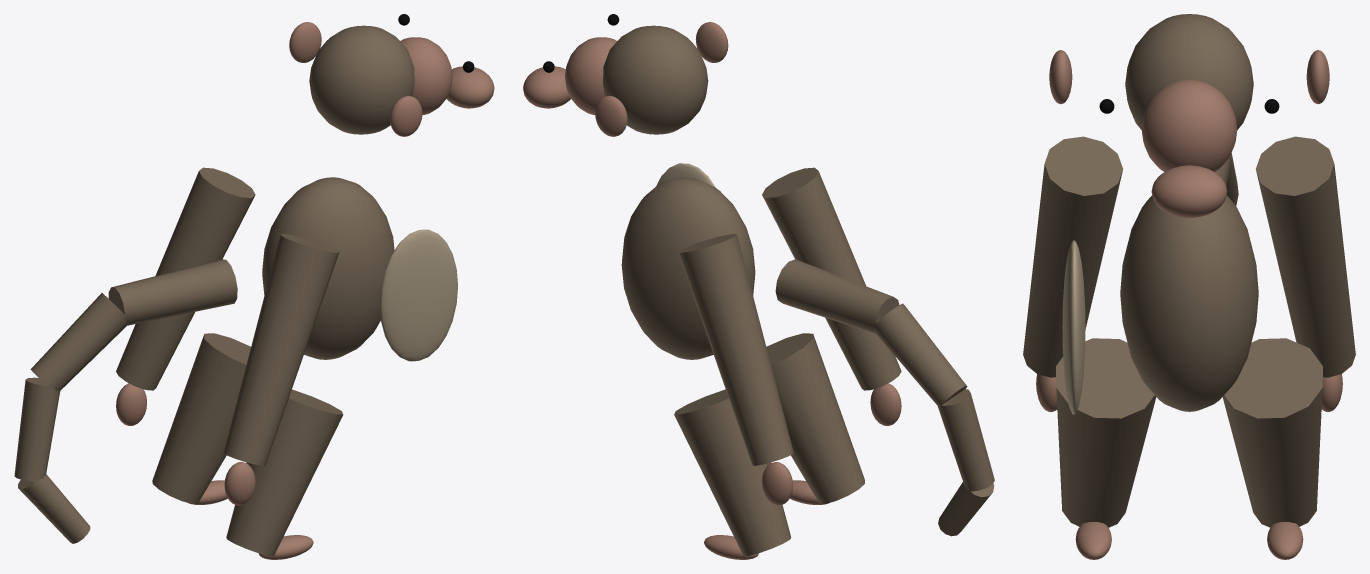
File: macaque-type-monkey.glb
3 views of the same model, side by side, from view 1: azimuth 30°, elevation 25°; view 2: azimuth 150°, elevation 25°; view 3: azimuth 270°, elevation 25° (orthographic). The views are drawn at different scales.
Visible parts, largest first — view 1: furred-torso, arm-1, arm--1, leg--1, head, leg-1, pale-chest, curved-tail-1, curved-tail-2, curved-tail-3, bare-face, curved-tail-4 (+6 smaller); view 2: furred-torso, arm--1, leg-1, arm-1, head, leg--1, curved-tail-1, curved-tail-2, curved-tail-3, bare-face, muzzle, curved-tail-4 (+6 smaller); view 3: furred-torso, arm--1, leg--1, leg-1, arm-1, head, bare-face, pale-chest, muzzle, foot--1, foot-1, ear--1 (+3 smaller).
Part boxes in pixels (left/top/right/bottom): furred-torso: left=262, top=177, right=394, bottom=359; arm-1: left=223, top=234, right=339, bottom=465; arm--1: left=116, top=167, right=255, bottom=390; leg--1: left=152, top=333, right=250, bottom=503; head: left=309, top=25, right=414, bottom=134; leg-1: left=226, top=389, right=343, bottom=556; pale-chest: left=380, top=229, right=457, bottom=361; curved-tail-1: left=108, top=259, right=237, bottom=325; curved-tail-2: left=30, top=293, right=127, bottom=391; curved-tail-3: left=14, top=377, right=60, bottom=481; bare-face: left=400, top=37, right=452, bottom=115; curved-tail-4: left=18, top=474, right=90, bottom=543; furred-torso: left=621, top=177, right=755, bottom=359; arm--1: left=678, top=234, right=793, bottom=465; leg-1: left=766, top=333, right=864, bottom=503; arm-1: left=762, top=167, right=901, bottom=390; head: left=602, top=25, right=708, bottom=134; leg--1: left=674, top=389, right=791, bottom=556; curved-tail-1: left=775, top=259, right=899, bottom=333; curved-tail-2: left=875, top=303, right=967, bottom=406; curved-tail-3: left=937, top=389, right=994, bottom=491; bare-face: left=565, top=37, right=616, bottom=114; muzzle: left=523, top=66, right=570, bottom=108; curved-tail-4: left=938, top=482, right=994, bottom=536; furred-torso: left=1120, top=195, right=1258, bottom=411; arm--1: left=1256, top=136, right=1355, bottom=377; leg--1: left=1222, top=338, right=1322, bottom=527; leg-1: left=1056, top=338, right=1156, bottom=527; arm-1: left=1023, top=136, right=1122, bottom=377; head: left=1125, top=14, right=1253, bottom=129; bare-face: left=1141, top=80, right=1237, bottom=171; pale-chest: left=1062, top=240, right=1085, bottom=414; muzzle: left=1151, top=165, right=1227, bottom=217; foot--1: left=1267, top=522, right=1303, bottom=559; foot-1: left=1075, top=522, right=1111, bottom=559; ear--1: left=1306, top=50, right=1329, bottom=104.
Bounding box in the file's own units: 2.1 × 2.02 × 1.01.
